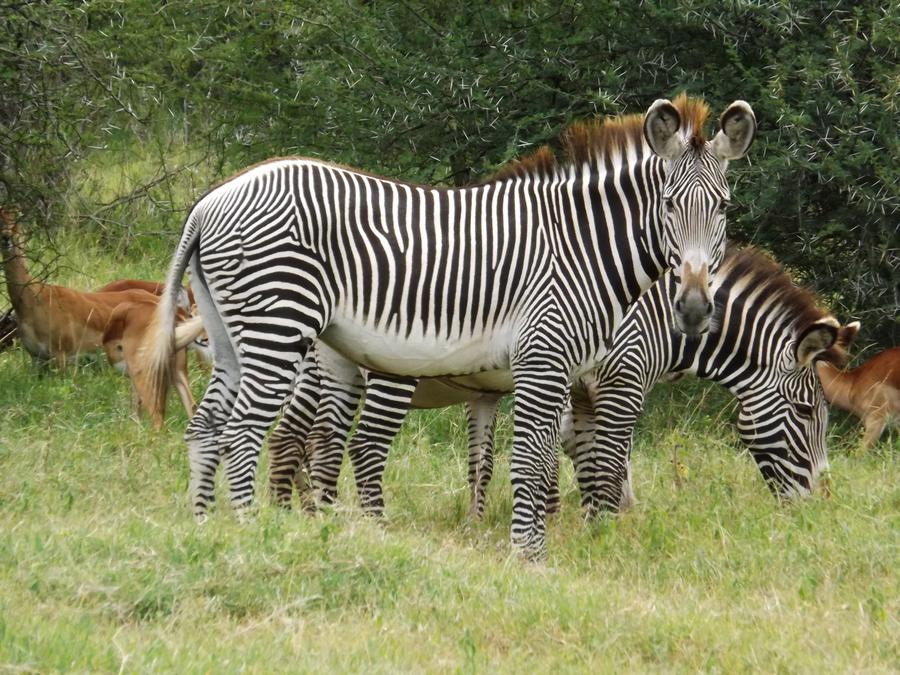zebra_grevys: (189, 164, 580, 363)
